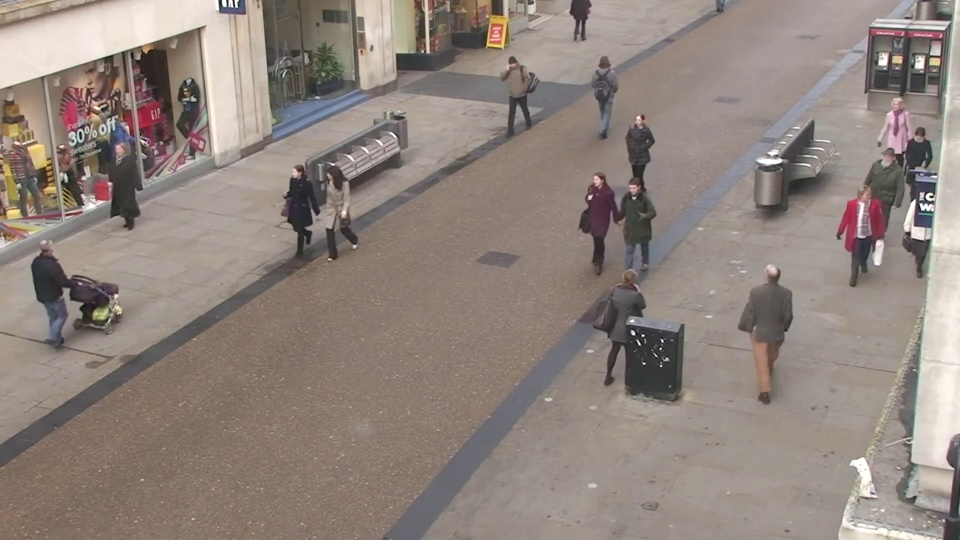pedestrian: (37, 227, 94, 350), (747, 251, 795, 383), (609, 260, 653, 395), (833, 182, 879, 297), (858, 152, 903, 259), (890, 127, 936, 230), (98, 142, 142, 242), (275, 161, 315, 267), (610, 177, 647, 290), (310, 162, 349, 269), (871, 97, 913, 191), (580, 172, 615, 284), (620, 114, 651, 210), (495, 54, 522, 133), (593, 50, 619, 127)
